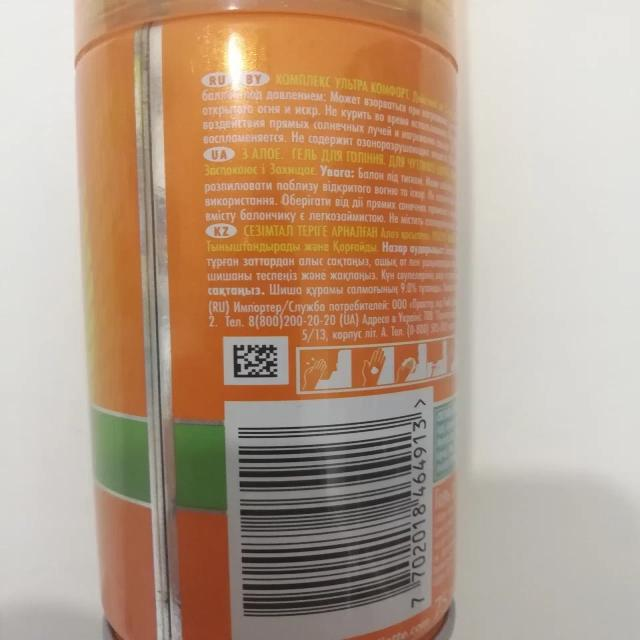datamatrix: (233, 344, 281, 380)
